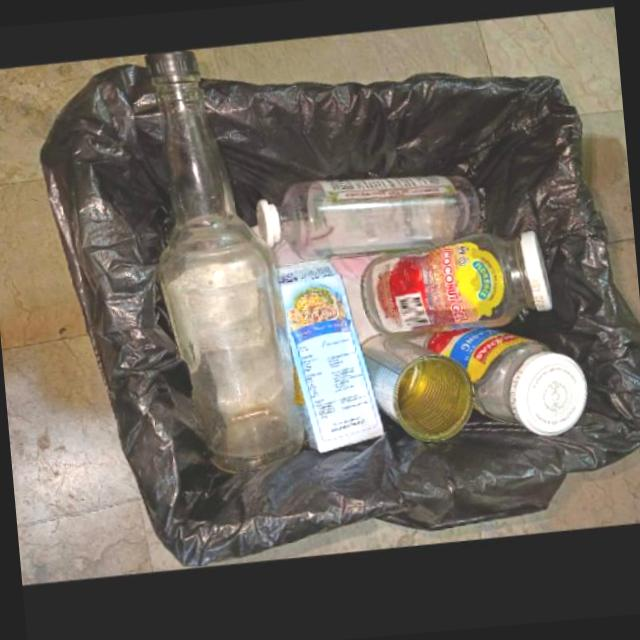chai_thuy_tinh: (147, 57, 309, 474), (363, 231, 556, 342), (257, 177, 483, 263), (428, 328, 590, 437)
nhom: (363, 338, 477, 444)
vo_hop_sua: (279, 261, 389, 458)
